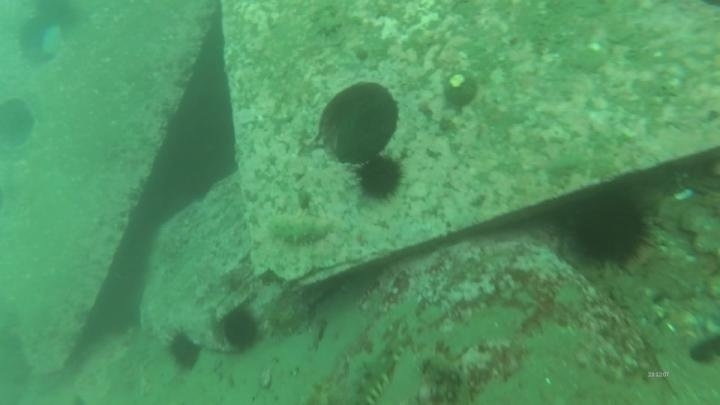echinus: (566, 191, 654, 270), (354, 152, 406, 202), (218, 304, 263, 354), (29, 1, 84, 34), (165, 329, 205, 373)
holothurian: (345, 320, 411, 405), (263, 210, 337, 248)
